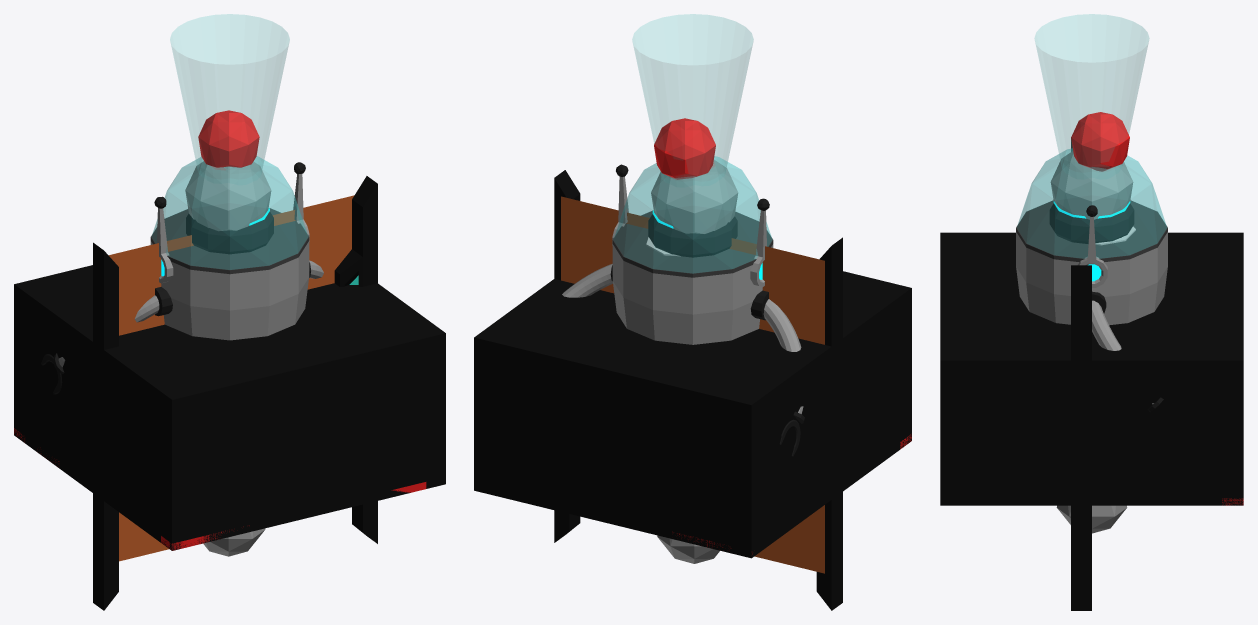
File: Model_Set_Modified_FBX.FBX
The picture shows the model from 3 angles, left to right: view 1: azimuth 30°, elevation 25°; view 2: azimuth 150°, elevation 25°; view 3: azimuth 270°, elevation 25°; orthographic projection. The views are drawn at different scales.
Visible parts, largest first — view 1: Box048, GeoSphere015, Box029, Object002, Box031, Plane002, Cylinder013, Object001, Box039, Cylinder029; view 2: Box048, GeoSphere015, Box029, Plane002, Box031, Object002, Cylinder013, Object001, Cylinder029; view 3: Box048, GeoSphere015, Box029, Object002, Box031, Cylinder013, Object001, Box039, Cylinder029.
Boxes of the visible parts, left/top/right/bottom form: Box048: left=14, top=265, right=445, bottom=549; GeoSphere015: left=41, top=156, right=323, bottom=394; Box029: left=170, top=14, right=289, bottom=179; Object002: left=93, top=176, right=377, bottom=610; Box031: left=14, top=415, right=445, bottom=550; Plane002: left=109, top=195, right=354, bottom=561; Cylinder013: left=185, top=161, right=271, bottom=231; Object001: left=198, top=110, right=259, bottom=167; Box039: left=14, top=428, right=444, bottom=550; Cylinder029: left=203, top=528, right=265, bottom=556; Box048: left=474, top=271, right=911, bottom=552; GeoSphere015: left=562, top=156, right=804, bottom=456; Box029: left=632, top=14, right=753, bottom=181; Plane002: left=561, top=196, right=824, bottom=573; Box031: left=474, top=421, right=911, bottom=558; Object002: left=554, top=170, right=842, bottom=610; Cylinder013: left=651, top=160, right=738, bottom=233; Object001: left=646, top=118, right=715, bottom=256; Cylinder029: left=657, top=535, right=719, bottom=563; Box048: left=940, top=232, right=1243, bottom=505; GeoSphere015: left=1016, top=148, right=1167, bottom=411; Box029: left=1034, top=14, right=1149, bottom=172; Object002: left=1071, top=138, right=1091, bottom=610; Box031: left=940, top=486, right=1243, bottom=505; Cylinder013: left=1050, top=151, right=1133, bottom=219; Object001: left=1071, top=112, right=1135, bottom=245; Box039: left=940, top=498, right=1243, bottom=505; Cylinder029: left=1056, top=505, right=1127, bottom=533.
Bounding box in the file's own units: 104 × 185 × 100.
